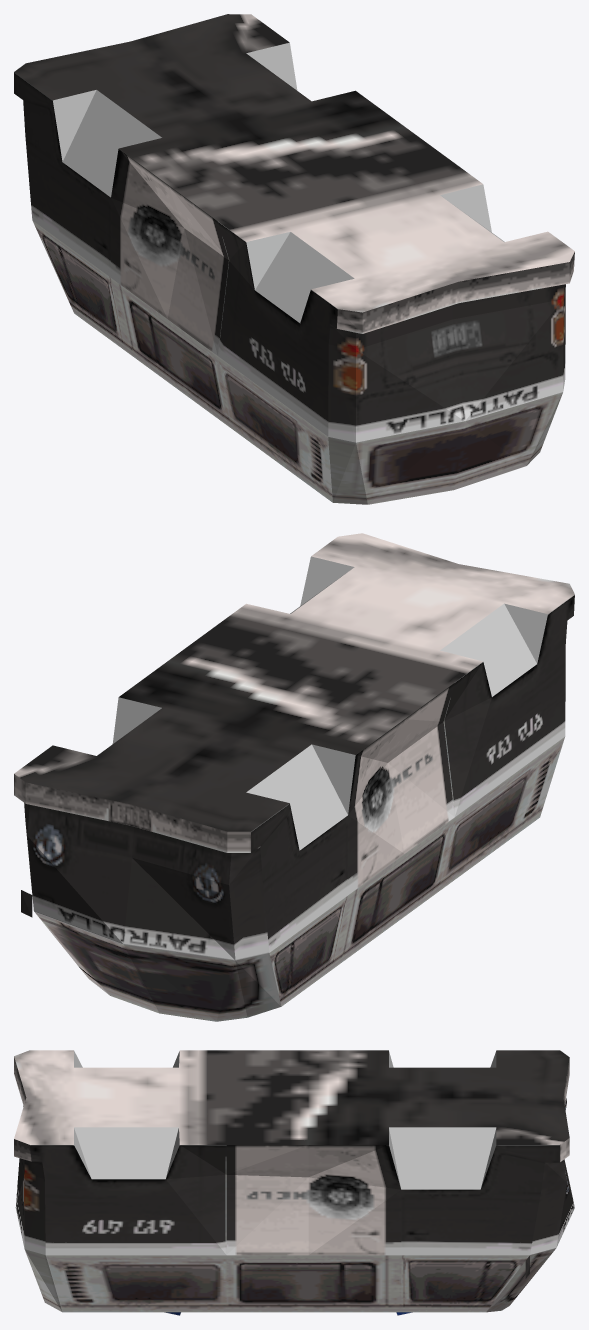
Rendered from HAVANA_model11_damaged.obj.
The picture shows the model from 3 angles, top to bottom: view 1: azimuth 30°, elevation 25°; view 2: azimuth 150°, elevation 25°; view 3: azimuth 270°, elevation 25°; orthographic projection. The views are drawn at different scales.
Visible parts, largest first — view 1: HAVANA_model11_damaged_set44_id8, HAVANA_model11_damaged_set45_id1, HAVANA_model11_damaged_set44_id5, HAVANA_model11_damaged_set44_id4, HAVANA_model11_damaged_set44_id10, HAVANA_model11_damaged_set44_id14, HAVANA_model11_damaged_set44_id13, HAVANA_model11_damaged_set45_id2, HAVANA_model11_damaged_set45_id3; view 2: HAVANA_model11_damaged_set44_id8, HAVANA_model11_damaged_set44_id0, HAVANA_model11_damaged_set45_id1, HAVANA_model11_damaged_set44_id1, HAVANA_model11_damaged_set44_id14, HAVANA_model11_damaged_set45_id0, HAVANA_model11_damaged_set44_id13, HAVANA_model11_damaged_set45_id2, HAVANA_model11_damaged_set45_id3; view 3: HAVANA_model11_damaged_set44_id8, HAVANA_model11_damaged_set45_id1, HAVANA_model11_damaged_set44_id14, HAVANA_model11_damaged_set44_id13, HAVANA_model11_damaged_set45_id2, HAVANA_model11_damaged_set45_id3, HAVANA_model11_damaged_set44_id1, HAVANA_model11_damaged_set44_id4, HAVANA_model11_damaged_set45_id0, HAVANA_model11_damaged_set44_id10, HAVANA_model11_damaged_set44_id5.
Part boxes in pixels (left/top/right/bottom): HAVANA_model11_damaged_set44_id8: left=14, top=14, right=574, bottom=355; HAVANA_model11_damaged_set45_id1: left=32, top=42, right=504, bottom=350; HAVANA_model11_damaged_set44_id5: left=328, top=282, right=464, bottom=442; HAVANA_model11_damaged_set44_id4: left=452, top=252, right=574, bottom=421; HAVANA_model11_damaged_set44_id10: left=328, top=392, right=562, bottom=504; HAVANA_model11_damaged_set44_id14: left=217, top=221, right=337, bottom=436; HAVANA_model11_damaged_set44_id13: left=14, top=72, right=110, bottom=277; HAVANA_model11_damaged_set45_id2: left=111, top=278, right=232, bottom=428; HAVANA_model11_damaged_set45_id3: left=217, top=356, right=332, bottom=502; HAVANA_model11_damaged_set44_id8: left=14, top=533, right=574, bottom=894; HAVANA_model11_damaged_set44_id0: left=21, top=804, right=269, bottom=960; HAVANA_model11_damaged_set45_id1: left=112, top=556, right=547, bottom=1006; HAVANA_model11_damaged_set44_id1: left=14, top=774, right=134, bottom=943; HAVANA_model11_damaged_set44_id14: left=443, top=595, right=574, bottom=816; HAVANA_model11_damaged_set45_id0: left=34, top=911, right=281, bottom=1021; HAVANA_model11_damaged_set44_id13: left=251, top=803, right=347, bottom=952; HAVANA_model11_damaged_set45_id2: left=333, top=817, right=454, bottom=968; HAVANA_model11_damaged_set45_id3: left=440, top=737, right=564, bottom=890; HAVANA_model11_damaged_set44_id8: left=14, top=1050, right=569, bottom=1255; HAVANA_model11_damaged_set45_id1: left=74, top=1051, right=529, bottom=1312; HAVANA_model11_damaged_set44_id14: left=30, top=1145, right=226, bottom=1255; HAVANA_model11_damaged_set44_id13: left=401, top=1145, right=559, bottom=1255; HAVANA_model11_damaged_set45_id2: left=226, top=1255, right=401, bottom=1312; HAVANA_model11_damaged_set45_id3: left=46, top=1255, right=226, bottom=1312; HAVANA_model11_damaged_set44_id1: left=530, top=1138, right=574, bottom=1254; HAVANA_model11_damaged_set44_id4: left=14, top=1139, right=45, bottom=1254; HAVANA_model11_damaged_set45_id0: left=486, top=1248, right=555, bottom=1312; HAVANA_model11_damaged_set44_id10: left=24, top=1249, right=62, bottom=1311; HAVANA_model11_damaged_set44_id5: left=14, top=1057, right=26, bottom=1207.
Size of the model in its own units: 269 by 269 by 636.
14 materials, 14 textured.
